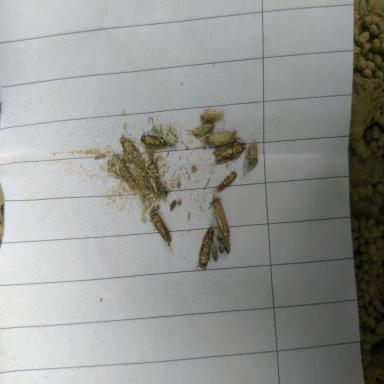pbw: (117, 136, 145, 184), (148, 208, 174, 255), (208, 194, 230, 240), (212, 136, 248, 164), (195, 226, 215, 271), (204, 128, 241, 146), (140, 132, 175, 149), (211, 171, 237, 193), (243, 139, 258, 176), (186, 119, 215, 138), (199, 106, 224, 122)
